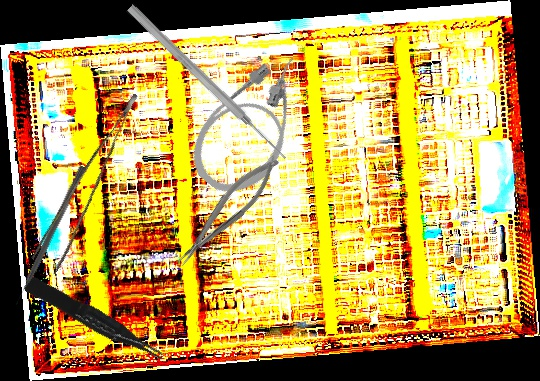Cannula: (175, 40, 335, 209)
Needle Holder: (166, 149, 289, 272)
Pusher: (124, 2, 291, 164), (11, 164, 87, 307)
Tissue Forceps: (22, 93, 167, 275), (22, 269, 167, 372)
